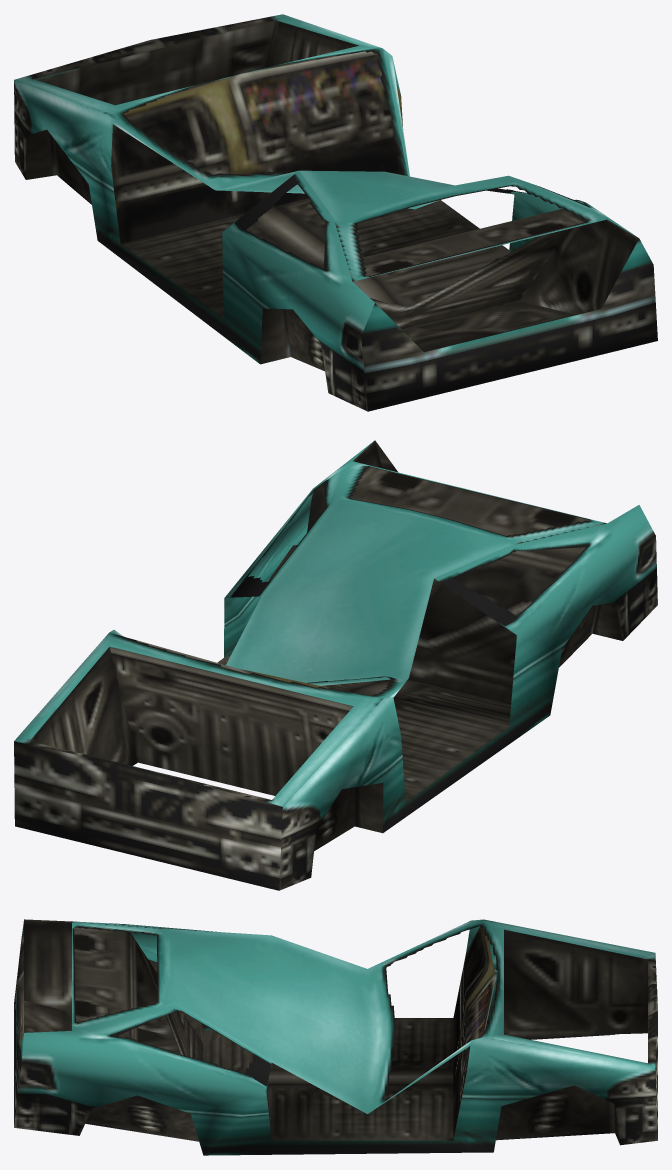
The model's file is car3.obj.
3 views of the same model, one above another, from view 1: azimuth 30°, elevation 25°; view 2: azimuth 150°, elevation 25°; view 3: azimuth 270°, elevation 25° (orthographic). The views are drawn at different scales.
Parts seen in each view (by area): view 1: Group; view 2: Group; view 3: Group.
Boxes of the visible parts, <box> form: Group: <box>14,14,657,411</box>; Group: <box>14,440,657,890</box>; Group: <box>14,919,657,1155</box>.
Bounding box in the file's own units: 100 × 47.58 × 212.
